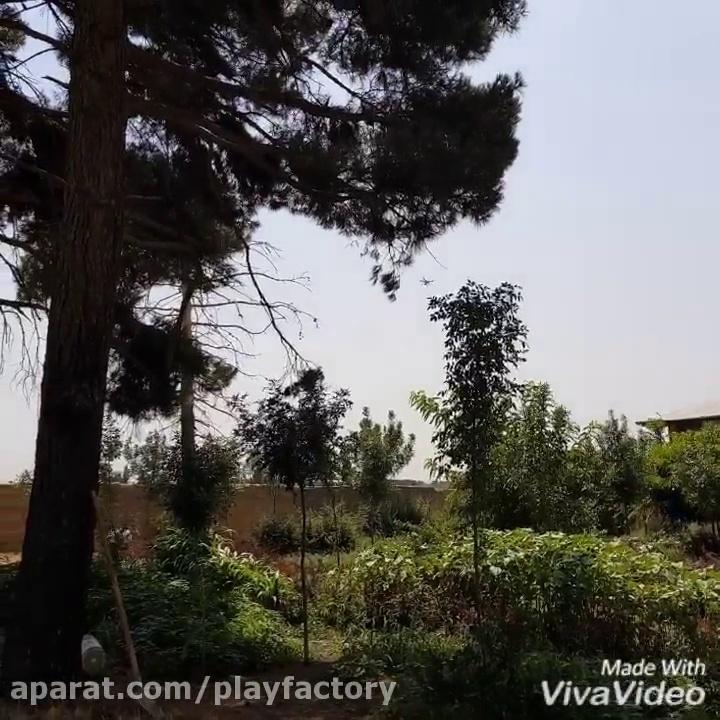drone: (419, 274, 436, 289)
